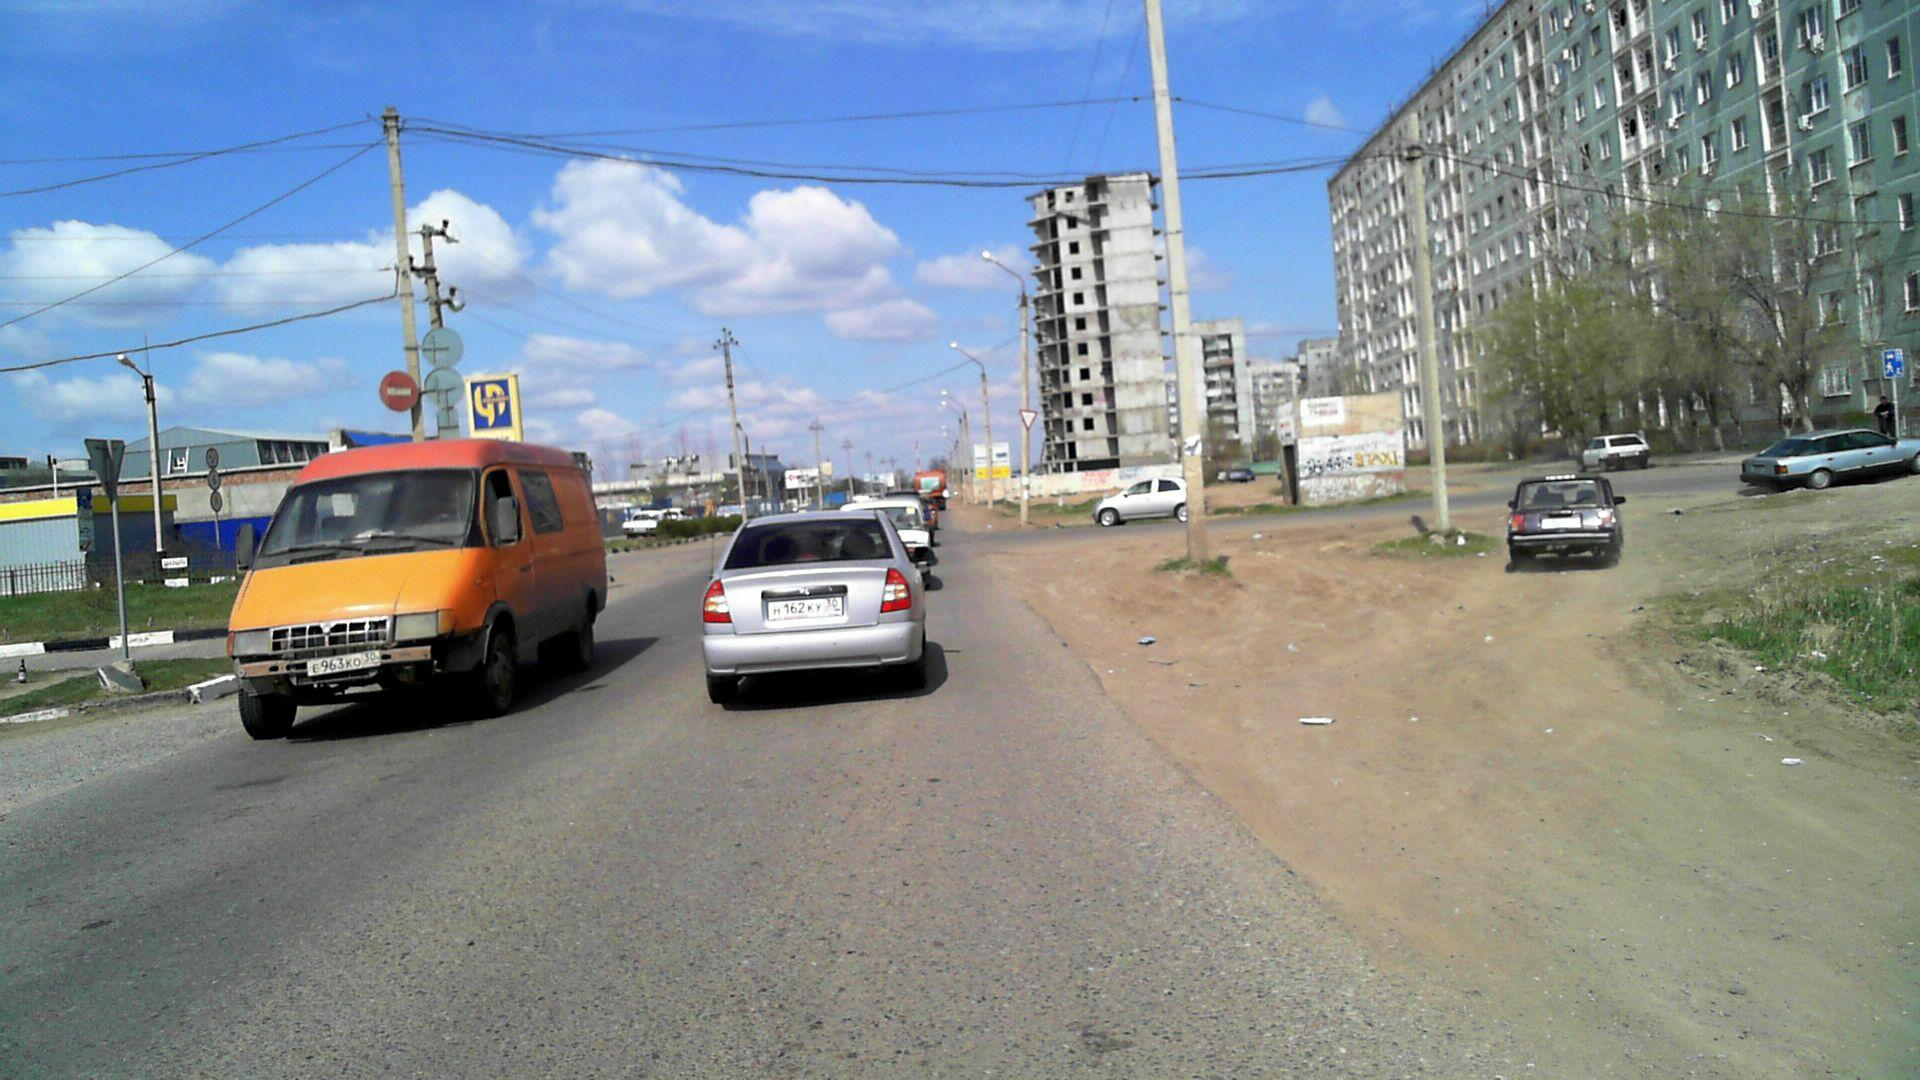2_4: (1017, 406, 1042, 434)
3_1: (376, 372, 415, 410)
3_13: (204, 447, 220, 467)
3_24: (207, 469, 220, 489)
3_32: (210, 492, 223, 510)
5_21: (1882, 345, 1905, 378)
